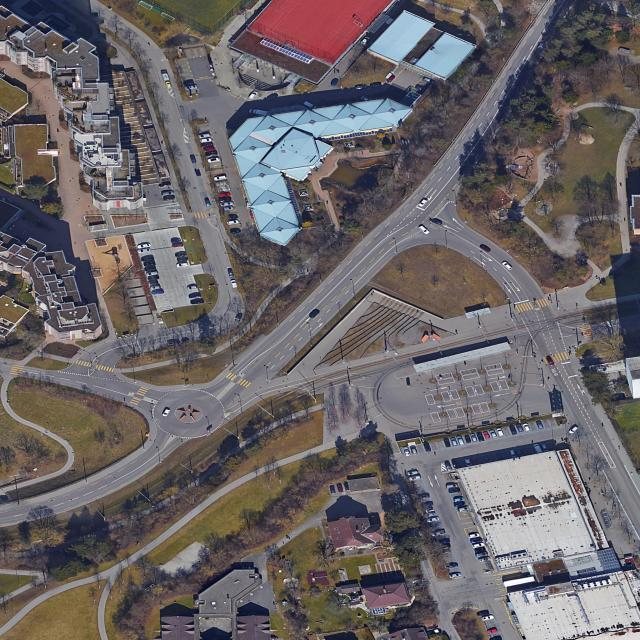large-vehicle: (249, 108, 269, 116), (302, 101, 318, 110), (533, 444, 543, 453), (161, 71, 170, 81), (230, 279, 239, 288)
ship: (430, 530, 446, 537)
small-vehicle: (419, 225, 431, 235), (415, 83, 428, 92), (501, 261, 514, 270), (359, 95, 373, 103), (309, 309, 320, 319), (244, 198, 254, 209), (568, 425, 580, 434), (360, 36, 372, 45), (136, 243, 151, 250), (479, 244, 492, 252), (409, 445, 419, 455), (402, 447, 412, 457), (522, 423, 532, 433), (161, 408, 171, 418), (248, 91, 259, 100), (509, 425, 518, 436), (386, 75, 397, 84), (408, 475, 422, 482), (456, 506, 470, 513), (190, 298, 204, 305), (188, 292, 202, 299), (146, 274, 160, 281), (438, 548, 452, 555), (470, 537, 484, 544), (471, 542, 485, 549), (475, 551, 489, 558), (205, 150, 219, 157), (449, 572, 462, 579), (163, 194, 176, 201), (423, 443, 432, 453), (456, 436, 465, 446), (476, 432, 485, 442), (495, 452, 505, 461), (495, 428, 505, 437), (330, 78, 340, 87), (213, 175, 228, 181), (219, 201, 234, 207), (418, 199, 429, 207), (426, 517, 440, 523), (184, 84, 198, 90), (266, 94, 278, 101), (423, 77, 435, 84), (431, 218, 443, 225), (423, 512, 437, 518), (437, 539, 451, 545), (175, 262, 189, 268), (137, 248, 151, 254), (226, 219, 240, 225), (166, 340, 180, 346), (438, 544, 452, 550), (445, 563, 459, 569), (476, 611, 490, 617), (481, 615, 495, 621), (474, 546, 486, 553), (207, 157, 221, 163), (158, 182, 172, 188), (450, 437, 459, 446), (508, 449, 517, 458), (521, 447, 530, 456), (540, 443, 549, 452), (444, 462, 453, 471), (451, 460, 460, 469), (536, 421, 545, 430), (515, 424, 524, 433), (443, 438, 451, 448), (482, 431, 492, 439), (453, 501, 466, 507), (421, 502, 434, 508), (226, 214, 239, 220), (198, 133, 211, 139), (478, 556, 491, 562), (201, 142, 214, 148), (470, 433, 478, 442), (464, 458, 472, 467), (471, 457, 479, 466), (489, 430, 498, 438), (446, 483, 458, 489), (407, 470, 419, 476), (165, 80, 173, 89), (547, 358, 556, 366), (249, 210, 257, 219), (235, 313, 243, 322), (230, 228, 242, 234), (468, 533, 480, 539), (189, 154, 197, 163), (354, 85, 368, 90), (141, 257, 155, 262), (218, 197, 232, 202), (171, 238, 182, 244), (448, 488, 461, 493), (418, 494, 431, 499), (151, 290, 164, 295), (176, 257, 189, 262), (143, 262, 156, 267), (202, 147, 215, 152), (161, 191, 174, 196), (483, 455, 491, 463), (464, 435, 472, 443), (516, 449, 524, 457), (336, 484, 344, 492), (344, 482, 351, 491), (195, 168, 202, 177), (453, 497, 465, 502), (370, 83, 382, 88), (146, 271, 158, 276), (172, 243, 184, 248), (175, 252, 187, 257), (200, 138, 212, 143), (219, 192, 231, 197), (205, 199, 212, 207), (538, 42, 546, 49), (183, 81, 194, 86), (186, 285, 197, 290), (150, 285, 161, 290), (148, 280, 159, 285), (486, 629, 497, 634), (224, 206, 234, 211), (228, 269, 234, 277), (330, 485, 336, 493)
